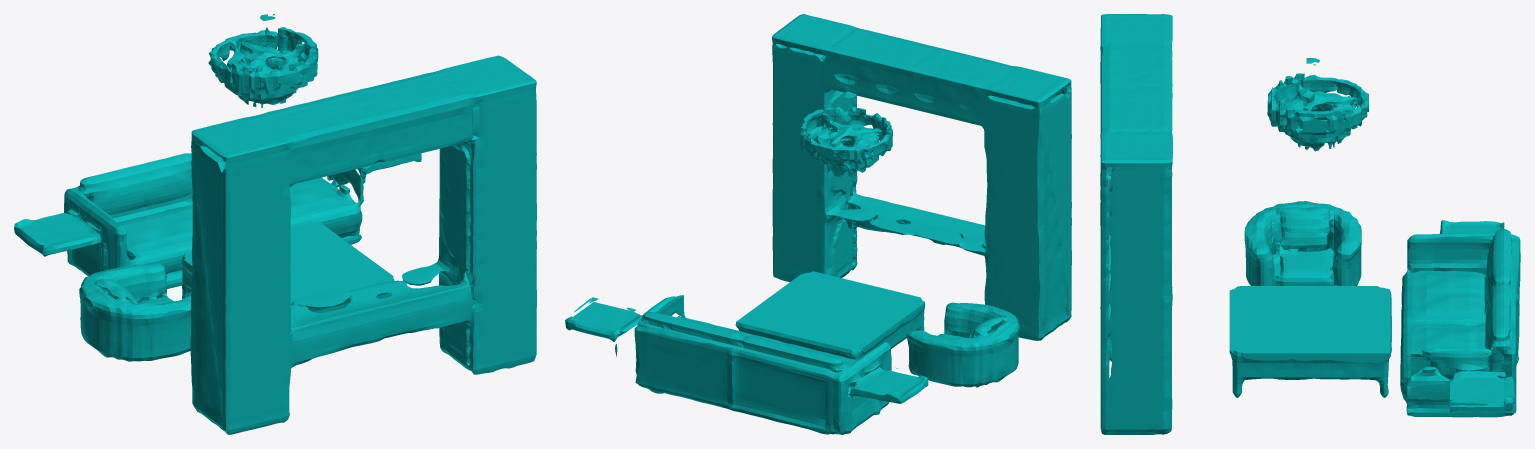
The model's file is 3dfront1.glb.
The picture shows the model from 3 angles, left to right: view 1: azimuth 30°, elevation 25°; view 2: azimuth 150°, elevation 25°; view 3: azimuth 270°, elevation 25°; orthographic projection. The views are drawn at different scales.
Bounding box in the file's own units: 3.85 × 2.74 × 3.48.
